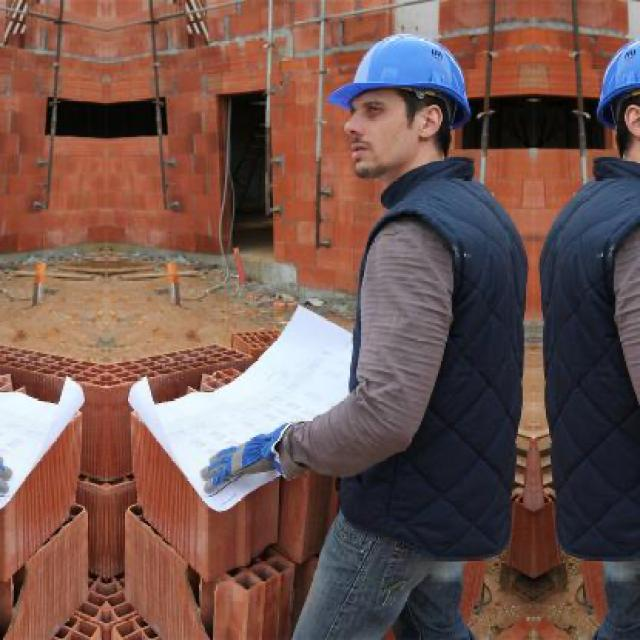helmet: (327, 28, 484, 190), (581, 28, 640, 192)
